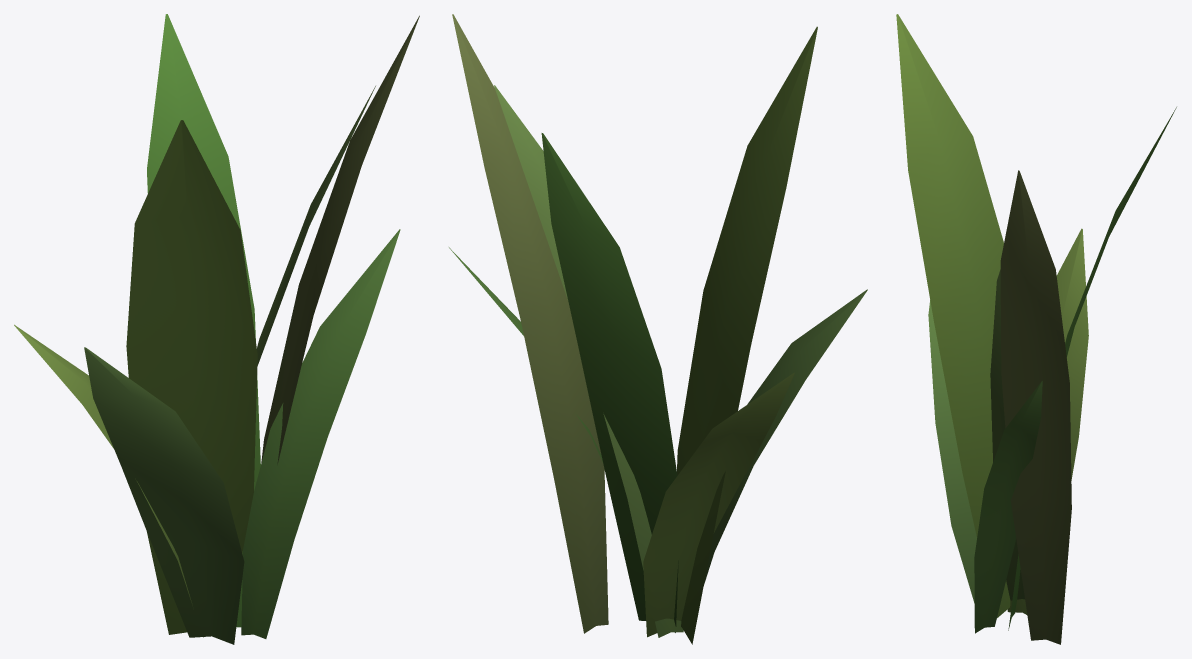
Rendered from GrassTuft.glb.
3 renders of one model, left to right at view 1: azimuth 30°, elevation 25°; view 2: azimuth 150°, elevation 25°; view 3: azimuth 270°, elevation 25°, orthographic. The views are drawn at different scales.
Visible parts, largest first — view 1: GrassTuft; view 2: GrassTuft; view 3: GrassTuft.
Part boxes in pixels (x1,y1,x2,y2): GrassTuft: (14, 14, 419, 644); GrassTuft: (449, 14, 867, 644); GrassTuft: (896, 14, 1176, 644).
Size of the model in its own units: 0.1613 by 0.2381 by 0.1082.
